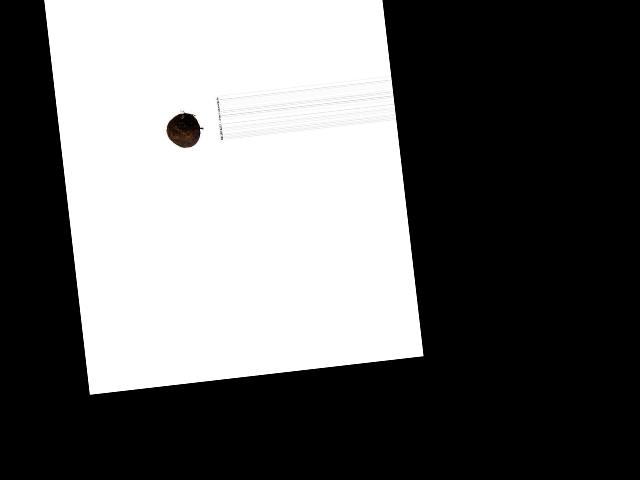beet: (165, 112, 201, 150)
